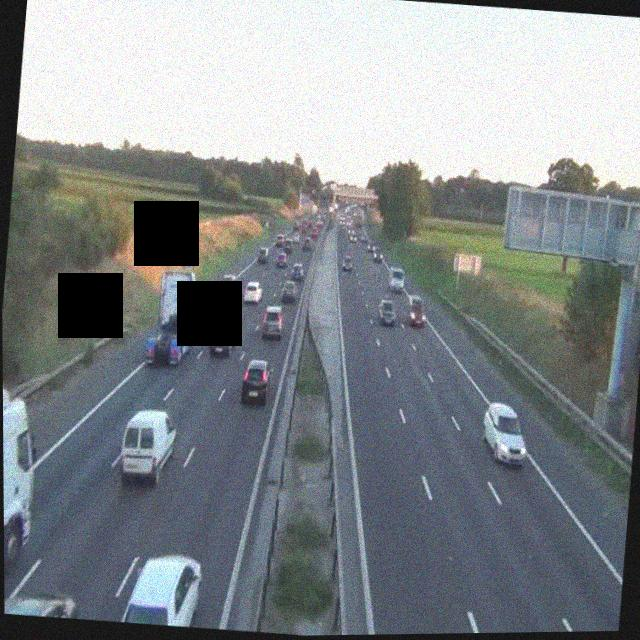car: (121, 551, 203, 628), (117, 407, 177, 487), (480, 401, 530, 468), (4, 587, 76, 619), (240, 358, 273, 404), (209, 320, 238, 356), (403, 293, 426, 328), (260, 307, 283, 338), (376, 298, 396, 325), (219, 273, 239, 299), (242, 280, 262, 303), (387, 268, 405, 291), (281, 281, 297, 302), (289, 261, 303, 281), (274, 250, 288, 267), (257, 246, 269, 263), (342, 254, 354, 271), (372, 247, 384, 262), (277, 237, 288, 252), (301, 238, 311, 251)
truck: (3, 382, 44, 610), (144, 266, 200, 367)
